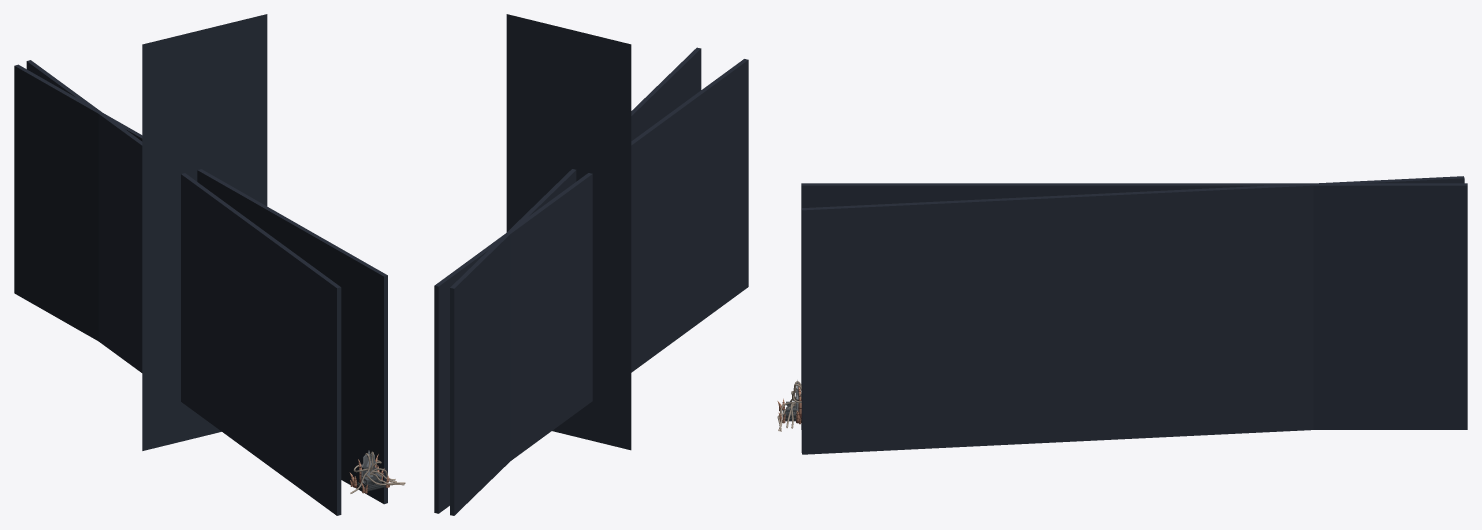
Rendered from throned_boss_environment.fbx.
3 views of the same model, side by side, from view 1: azimuth 30°, elevation 25°; view 2: azimuth 150°, elevation 25°; view 3: azimuth 270°, elevation 25° (orthographic). The views are drawn at different scales.
Visible parts, largest first — view 1: wall1, wall2, wall3, throne, pipe_outside; view 2: wall1, wall3, wall2; view 3: wall2, wall1.
Part boxes in pixels (x1,y1,x2,y2): wall1: [26, 60, 341, 515]; wall2: [14, 64, 387, 504]; wall3: [142, 14, 267, 450]; throne: [349, 450, 390, 493]; pipe_outside: [350, 451, 405, 493]; wall1: [434, 59, 748, 513]; wall3: [506, 14, 631, 450]; wall2: [450, 47, 701, 515]; wall2: [801, 176, 1464, 454]; wall1: [801, 183, 1467, 429].
Size of the model in its own units: 1737 by 5408 by 7753.
